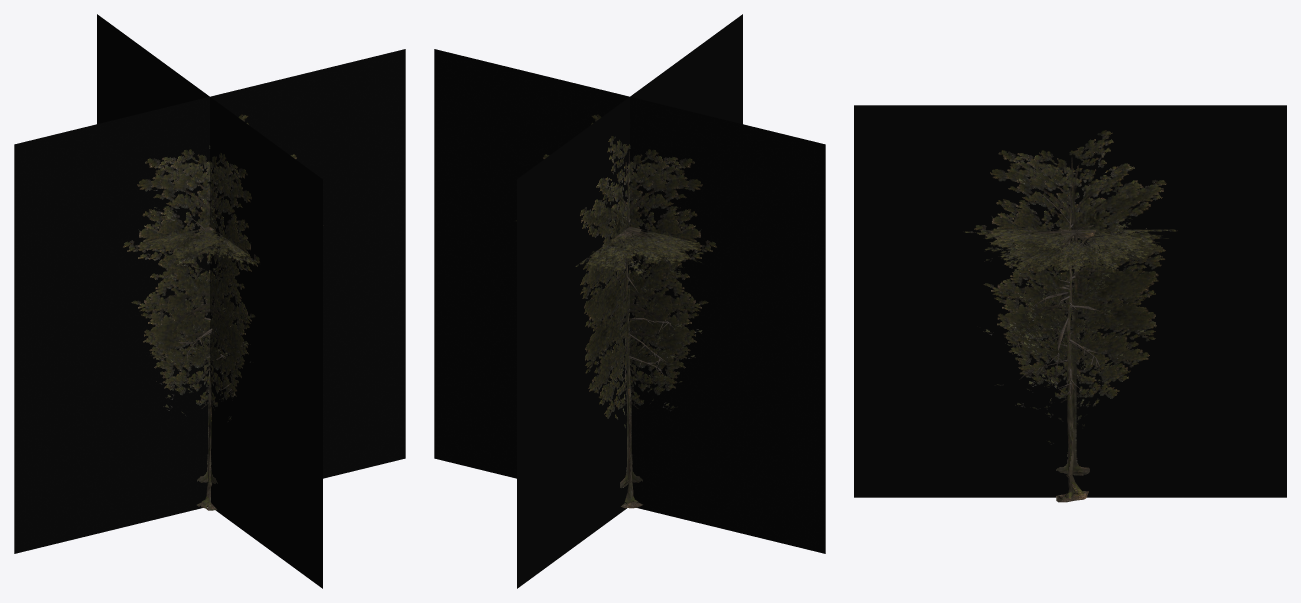
The model's file is tree_pine.glb.
3 views of the same model, side by side, from view 1: azimuth 30°, elevation 25°; view 2: azimuth 150°, elevation 25°; view 3: azimuth 270°, elevation 25° (orthographic). The views are drawn at different scales.
Visible parts, largest first — view 1: Prototype_pine; view 2: Prototype_pine; view 3: Prototype_pine.
Part boxes in pixels (x1,y1,x2,y2): Prototype_pine: (14, 14, 405, 588); Prototype_pine: (434, 14, 825, 588); Prototype_pine: (854, 105, 1286, 502).
Size of the model in its own units: 16.4 by 16.4 by 16.4.
6 materials, 6 textured.
